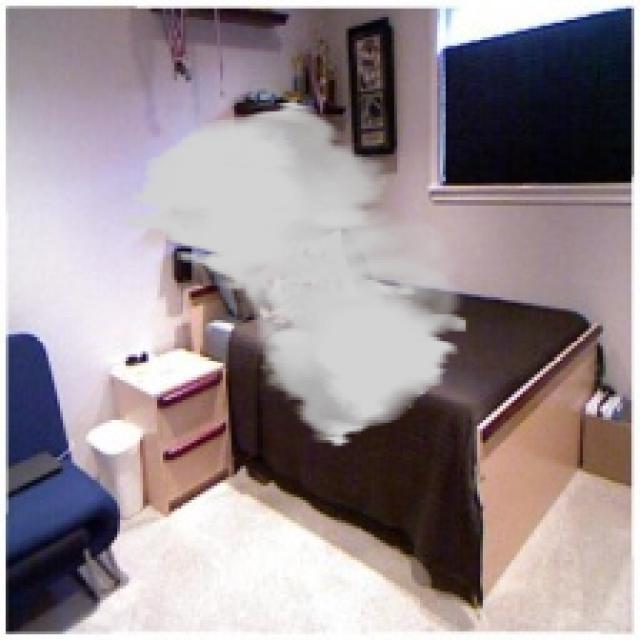Smoke: (120, 100, 469, 449)
